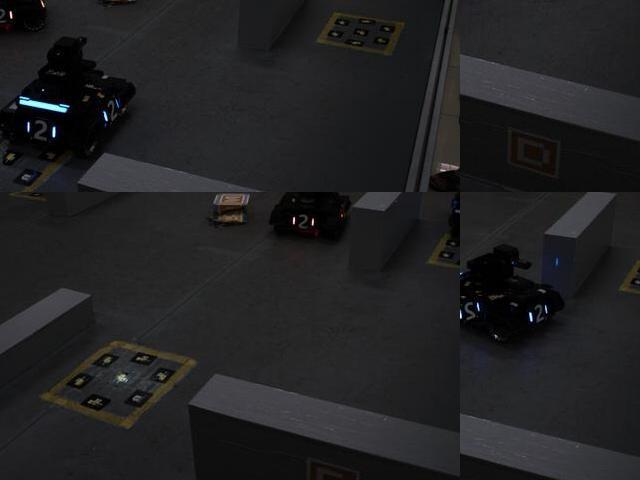armor: (21, 115, 59, 147), (523, 297, 552, 329), (460, 296, 486, 327), (97, 96, 121, 128), (287, 210, 317, 235), (0, 4, 18, 28)
